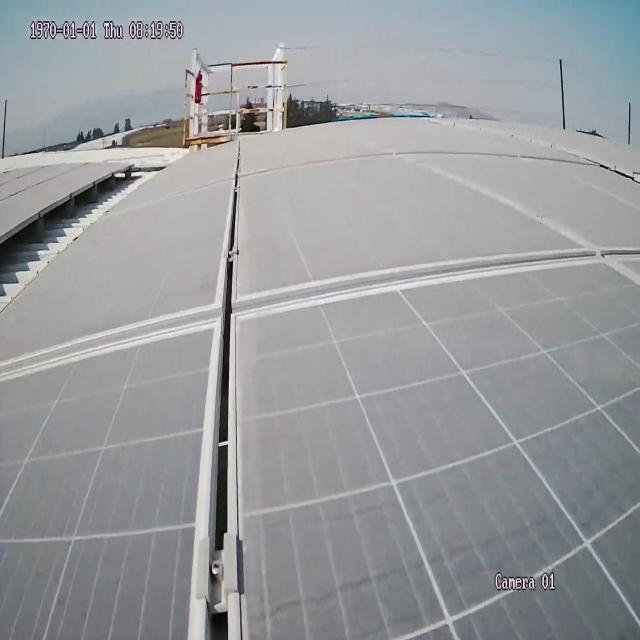interior panel: (0, 134, 640, 639), (1, 160, 98, 221)
outher panel: (0, 159, 166, 322)
